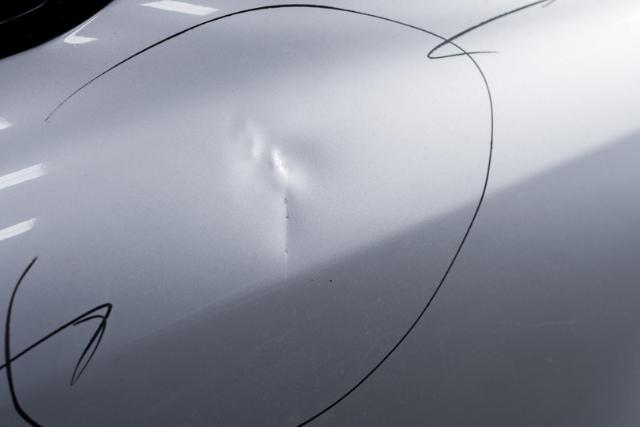Door: (47, 58, 508, 387)
